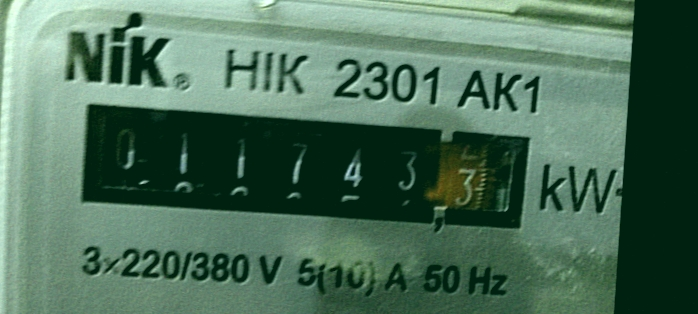0: (112, 127, 144, 176)
1: (231, 136, 256, 186), (177, 133, 197, 182)
3: (395, 149, 426, 198), (454, 167, 481, 213)
4: (341, 145, 372, 195)
7: (287, 142, 314, 192)
screen: (67, 97, 540, 246)
